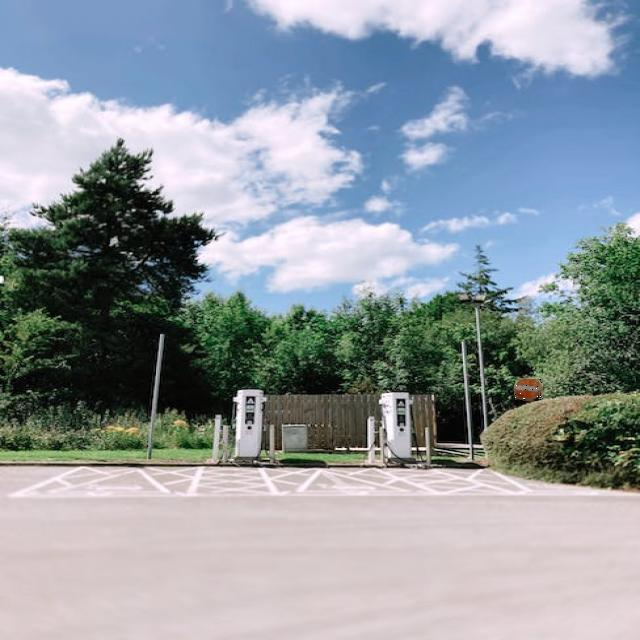no entry: (515, 379, 542, 401)
